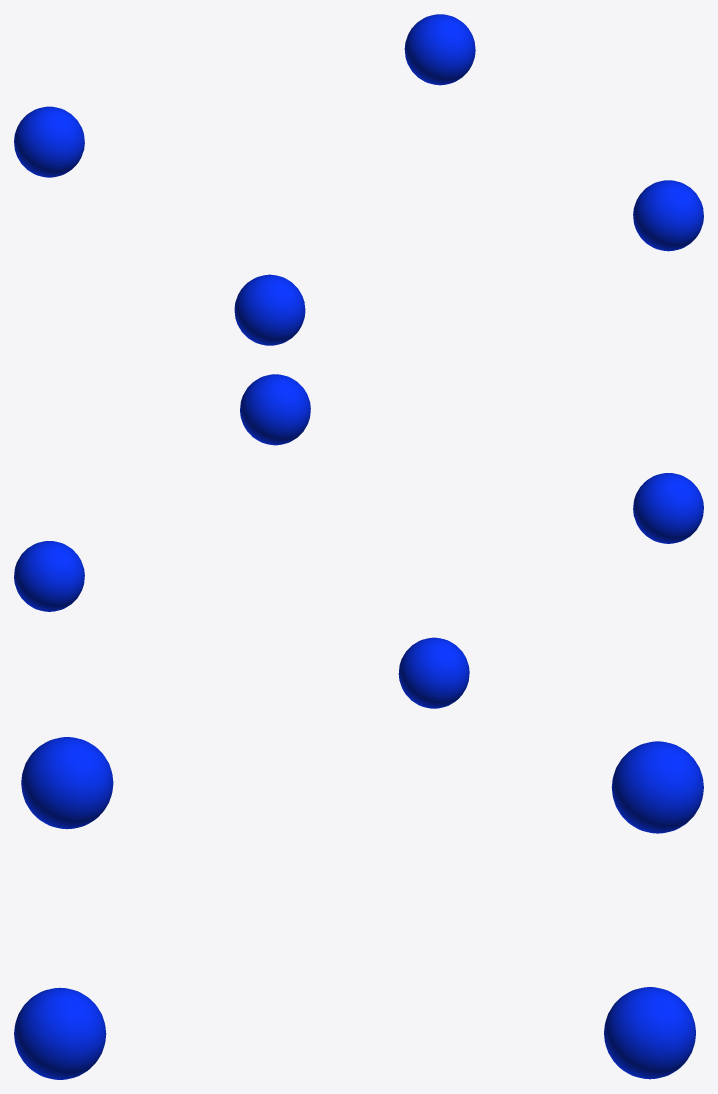
3 renders of one model, top to bottom at view 1: azimuth 30°, elevation 25°; view 2: azimuth 150°, elevation 25°; view 3: azimuth 270°, elevation 25°, orthographic. The views are drawn at different scales.
Parts seen in each view (by area): view 1: Sphere046; view 2: Sphere046; view 3: Sphere046.
Part boxes in pixels (x1=…): Sphere046: x1=14, y1=14, x2=703, y2=345; Sphere046: x1=14, y1=374, x2=703, y2=708; Sphere046: x1=14, y1=737, x2=703, y2=1079.
Size of the model in its own units: 61.07 by 8.22 by 61.46.
